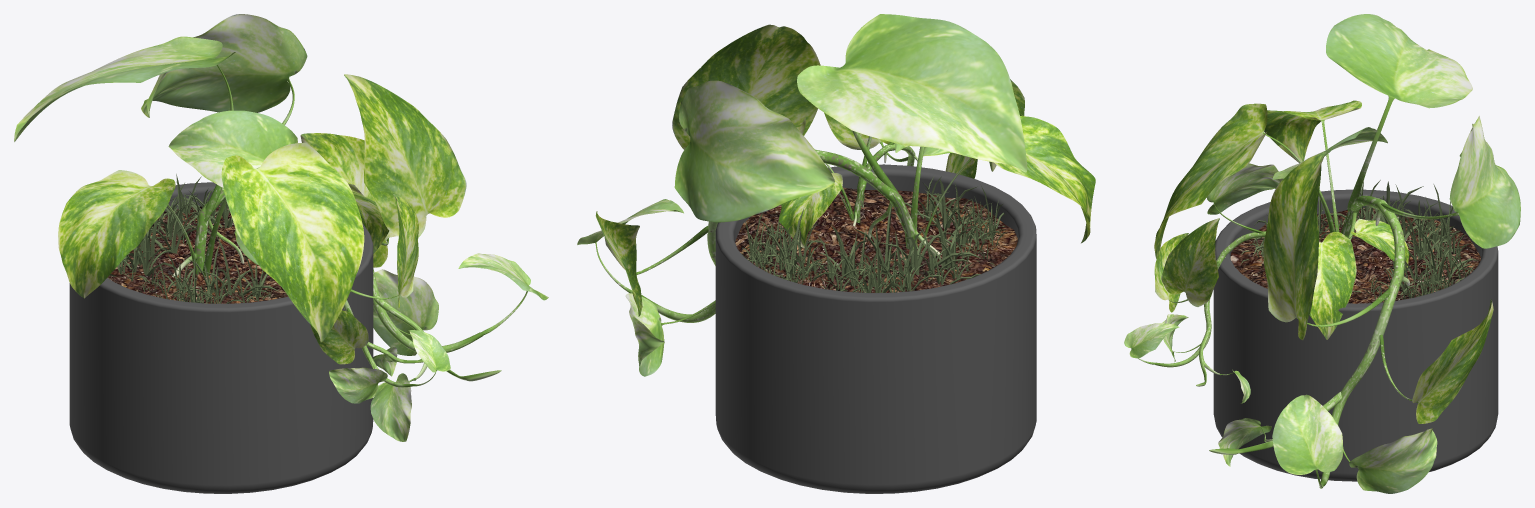
File: pothos plant.fbx
The picture shows the model from 3 angles, left to right: view 1: azimuth 30°, elevation 25°; view 2: azimuth 150°, elevation 25°; view 3: azimuth 270°, elevation 25°; orthographic projection. The views are drawn at different scales.
Visible parts, largest first — view 1: ivy_1, pot, ivy_2, grass; view 2: pot, ivy_1, grass, ivy_2; view 3: ivy_1, pot, ivy_2, grass.
Boxes of the visible parts, x1,y1,x2,y2 form: ivy_1: (14, 14, 548, 441); pot: (69, 182, 373, 493); ivy_2: (168, 110, 450, 403); grass: (110, 174, 279, 303); pot: (715, 164, 1036, 493); ivy_1: (577, 14, 1095, 376); grass: (741, 176, 1006, 292); ivy_2: (779, 112, 977, 248); ivy_1: (1154, 14, 1520, 493); pot: (1213, 189, 1498, 481); ivy_2: (1124, 127, 1409, 403); grass: (1241, 180, 1478, 300).
Bounding box in the file's own units: 0.2995 × 0.2351 × 0.2314.
4 materials, 3 textured.
